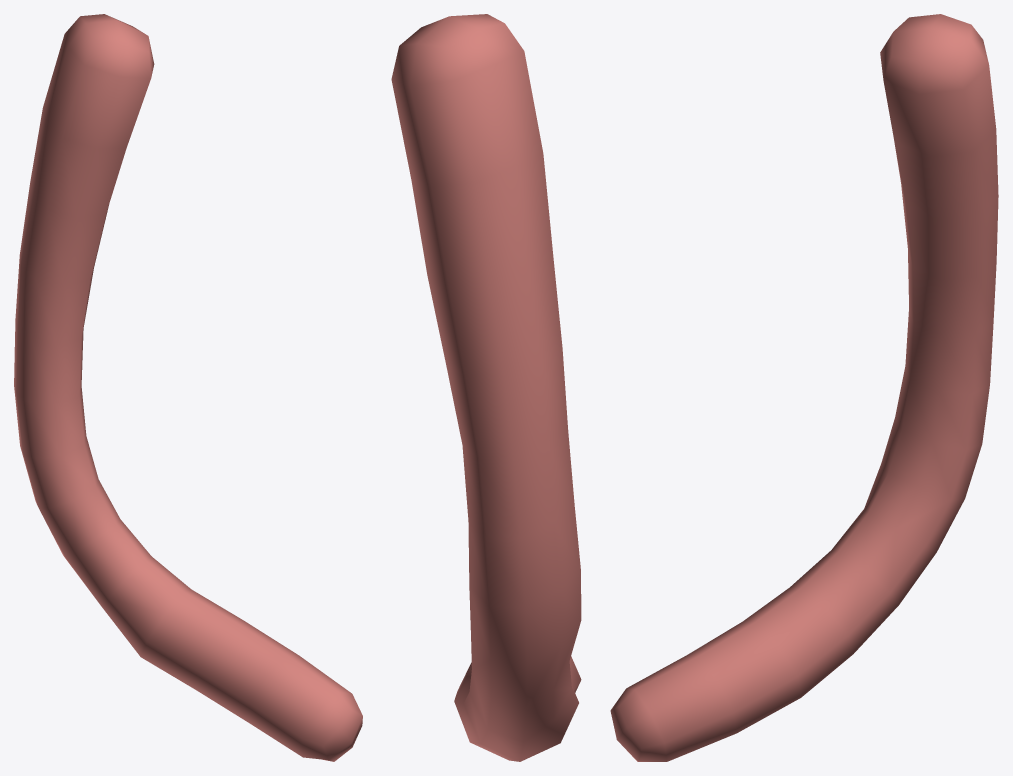
3 views of the same model, side by side, from view 1: azimuth 30°, elevation 25°; view 2: azimuth 150°, elevation 25°; view 3: azimuth 270°, elevation 25° (orthographic). The views are drawn at different scales.
Visible parts, largest first — view 1: ZA_7436577e41c3b7de; view 2: ZA_7436577e41c3b7de; view 3: ZA_7436577e41c3b7de.
Boxes of the visible parts, <box> form: ZA_7436577e41c3b7de: <box>14,14,362,761</box>; ZA_7436577e41c3b7de: <box>391,14,581,761</box>; ZA_7436577e41c3b7de: <box>610,14,998,761</box>.
Bounding box in the file's own units: 0.0211 × 0.0665 × 0.0336.
